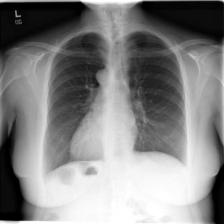normal: (41, 28, 192, 180)
